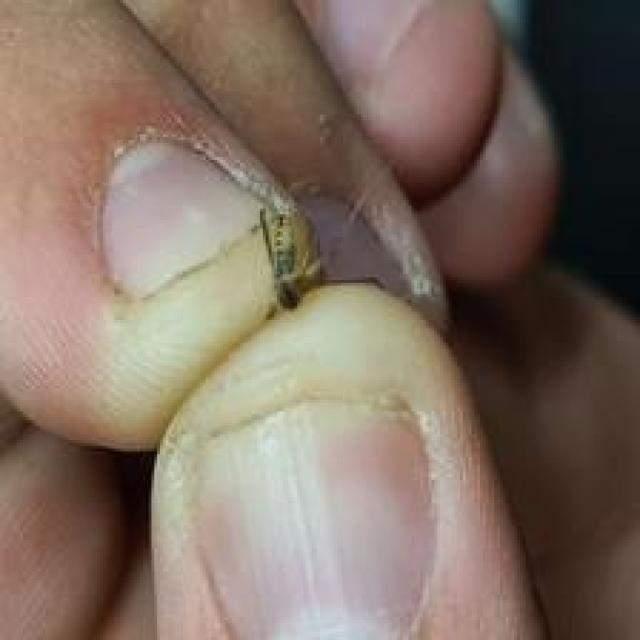Culex: (256, 197, 324, 317)
